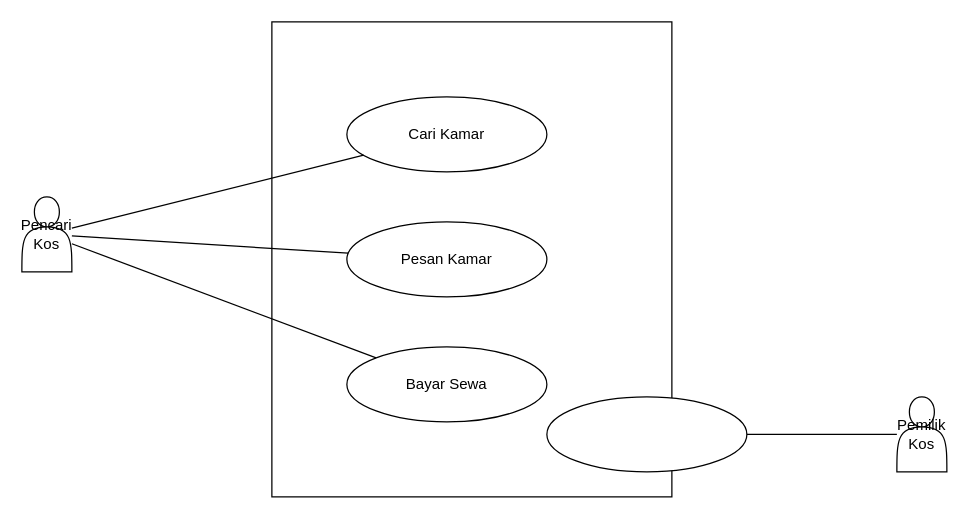
Image size: 969x519. Some labels were removed from this diagram. Here are the shapes that lost their labels. From the top down, the box of each, then its label:
(271, 21, 672, 497): Aplikasi Kos
(546, 396, 747, 472): Kelola Kamar
